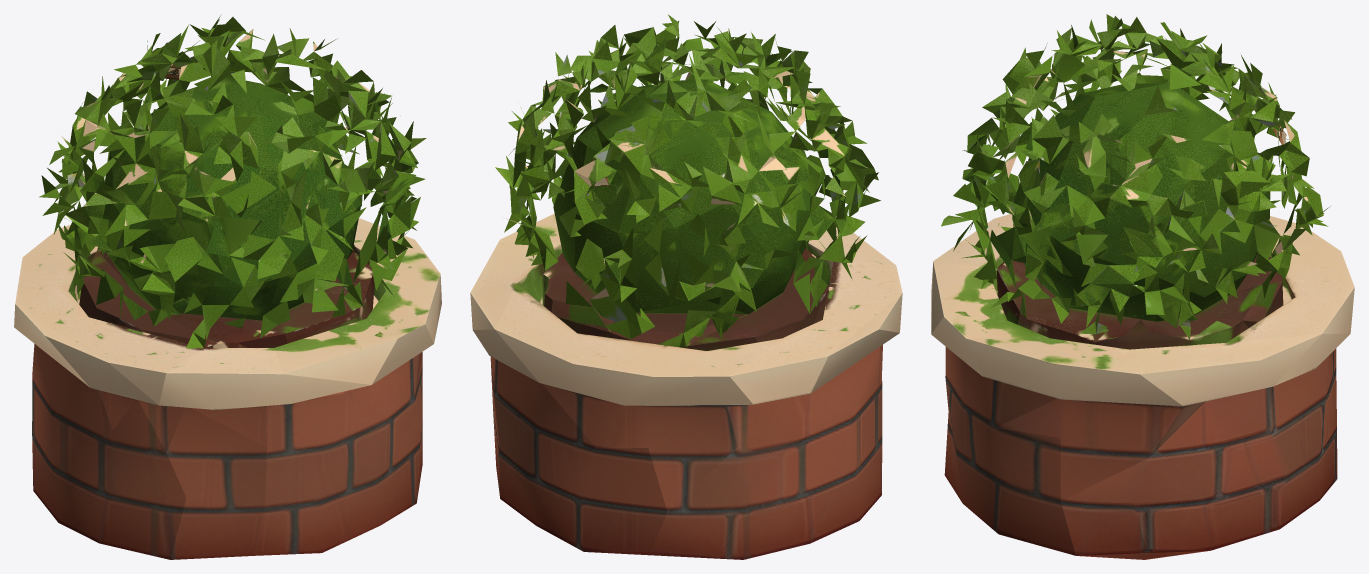
File: planter_brick.glb
3 views of the same model, side by side, from view 1: azimuth 30°, elevation 25°; view 2: azimuth 150°, elevation 25°; view 3: azimuth 270°, elevation 25° (orthographic).
Size of the model in its own units: 1.64 by 1.9 by 1.62.
1 material, 1 textured.
